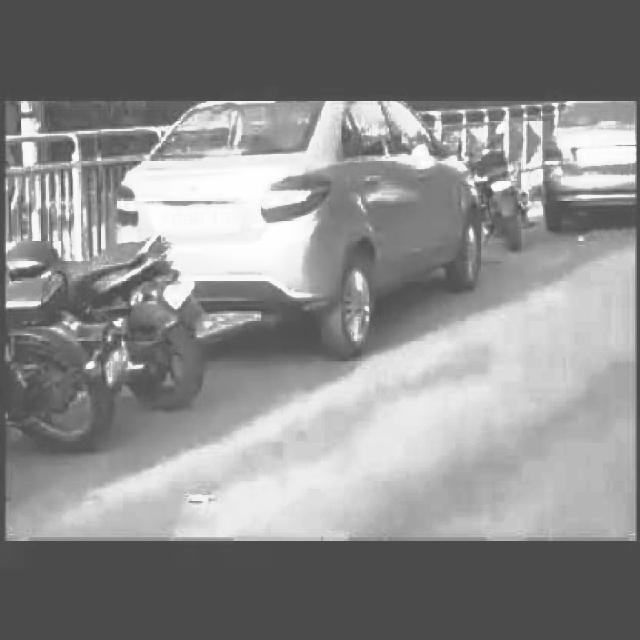Car: (108, 91, 502, 351), (548, 108, 638, 232)
